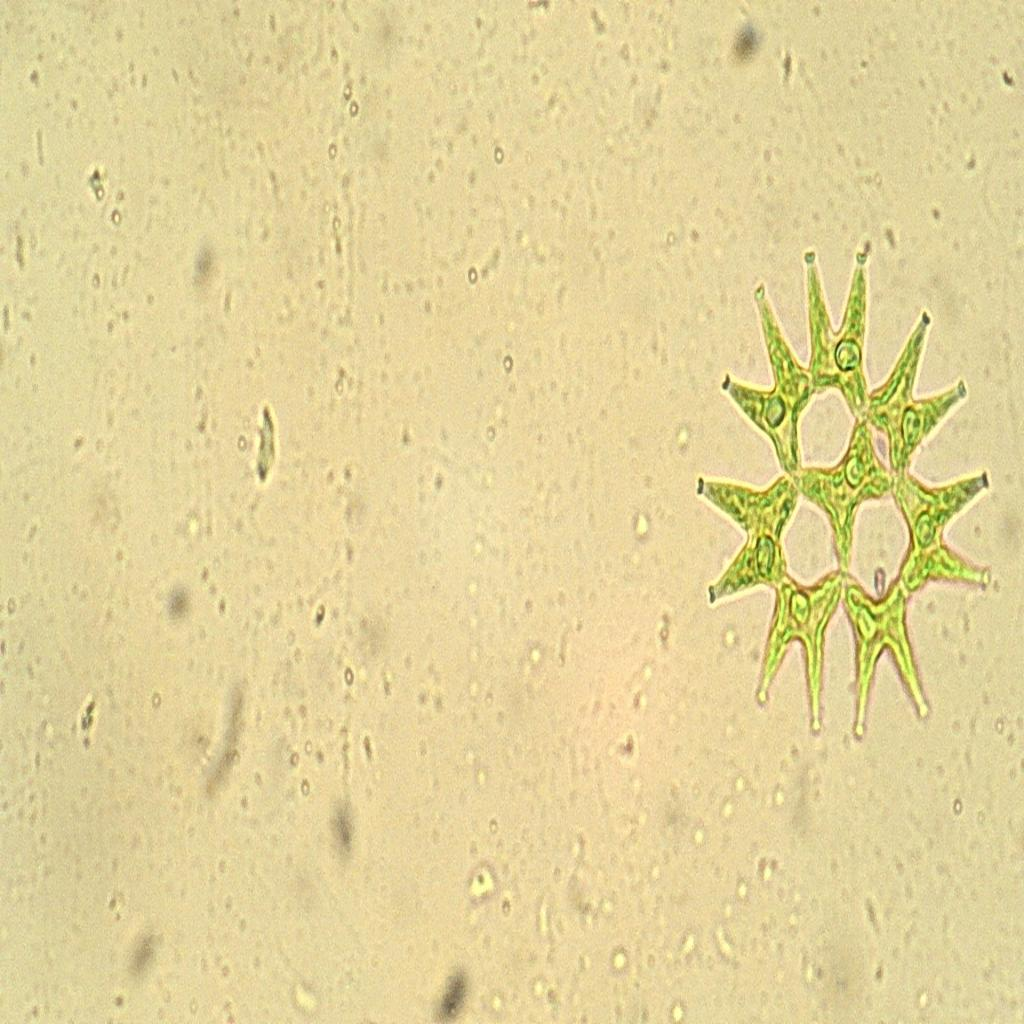Pediastrum_75T: (683, 224, 1005, 758)
